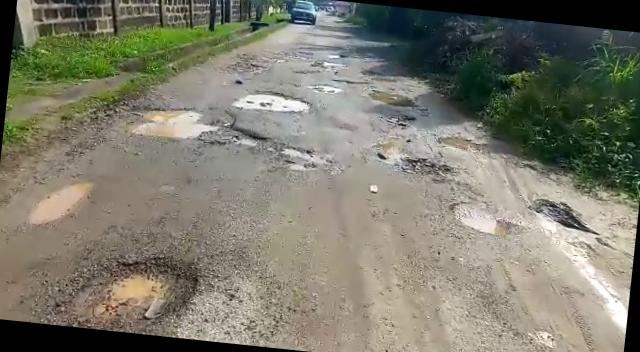pothole: (65, 246, 209, 338), (123, 100, 268, 150), (25, 175, 93, 230), (526, 196, 607, 238), (232, 85, 316, 118), (448, 200, 517, 240), (276, 146, 340, 176), (396, 154, 457, 182), (433, 130, 488, 154), (366, 89, 420, 112), (306, 80, 346, 94)
